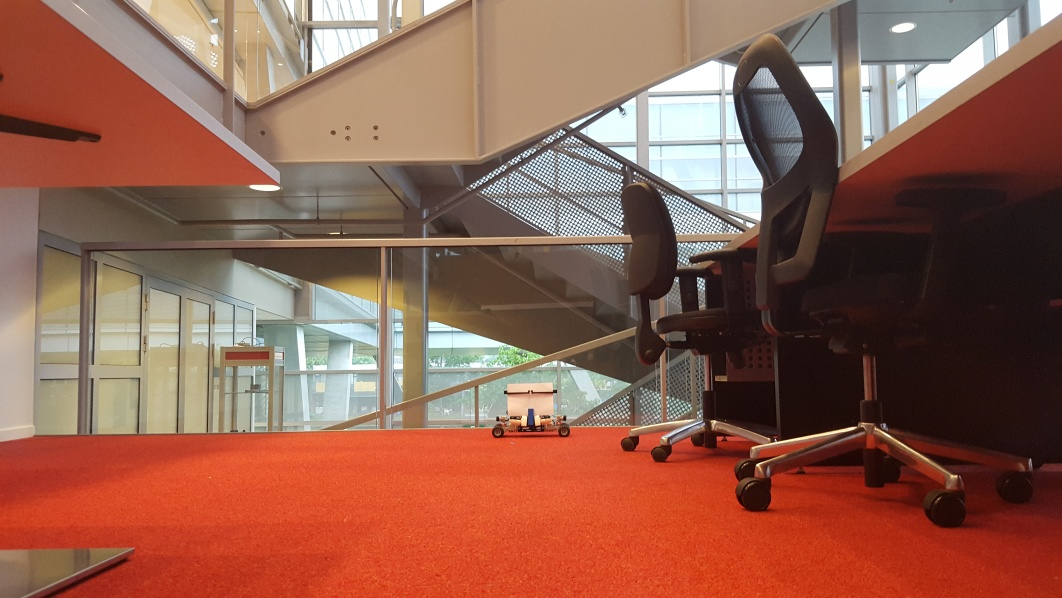car: (491, 381, 573, 441)
